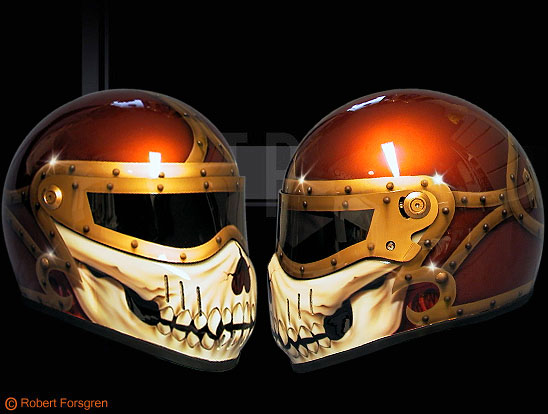helmet: (16, 100, 255, 352), (273, 102, 537, 319)
